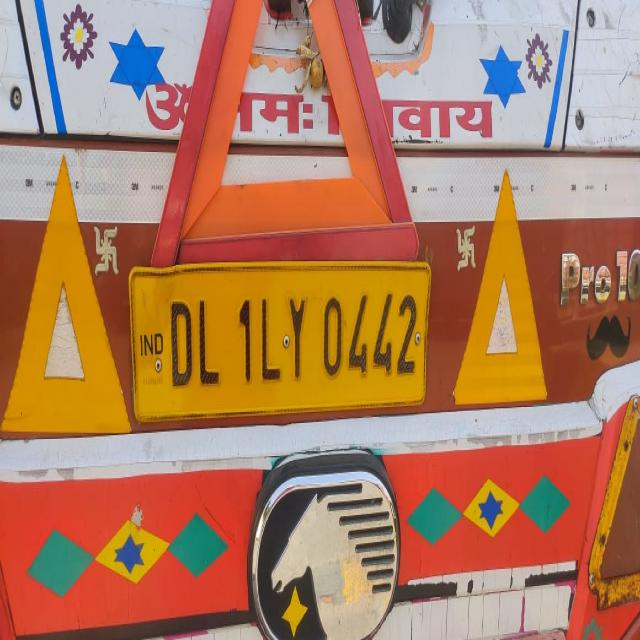License-plate: (131, 272, 431, 399)
